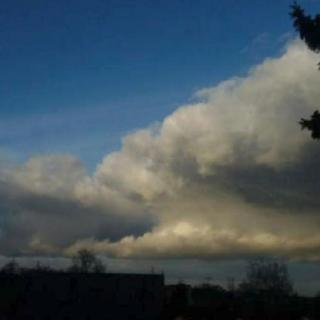Cumulus: (0, 34, 320, 259)
